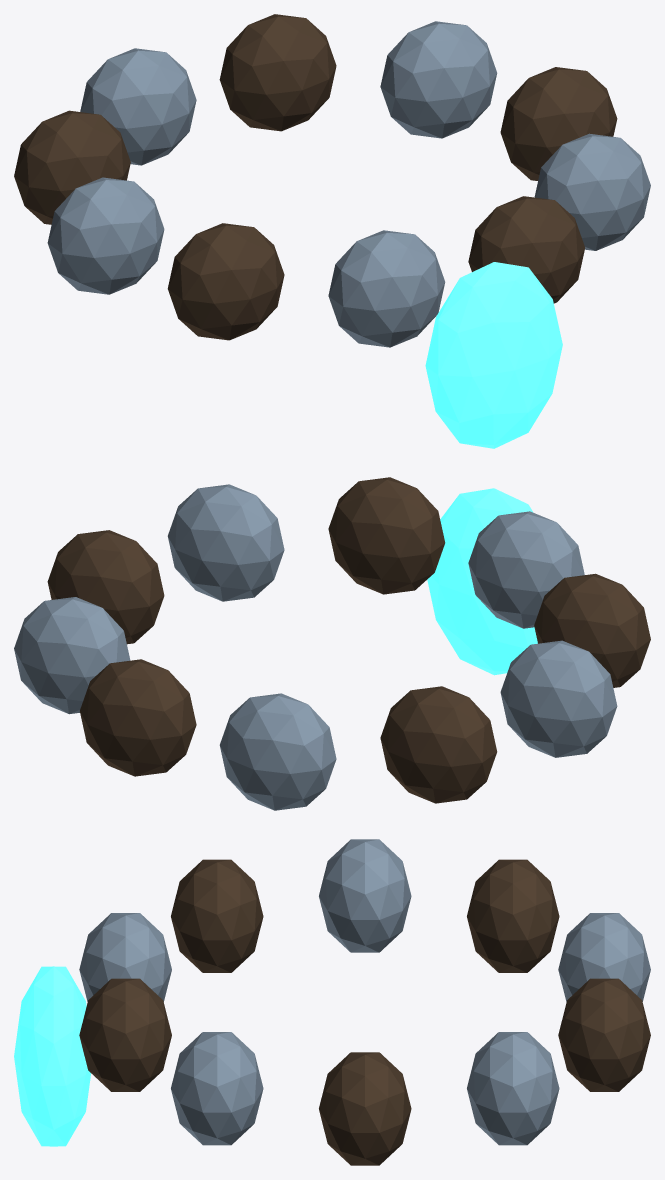
Rendered from bracelet_v7.glb.
The picture shows the model from 3 angles, top to bottom: view 1: azimuth 30°, elevation 25°; view 2: azimuth 150°, elevation 25°; view 3: azimuth 270°, elevation 25°; orthographic projection. The views are drawn at different scales.
Visible parts, largest first — view 1: BONE_CHARM_EMISSIVE, BONE_BEAD_PRIMARY, BONE_BEAD_SECONDARY.001, BONE_BEAD_PRIMARY.002, BONE_BEAD_PRIMARY.003, BONE_BEAD_SECONDARY.003, BONE_BEAD_PRIMARY.001, BONE_BEAD_PRIMARY.004, BONE_BEAD_SECONDARY.002, BONE_BEAD_SECONDARY, BONE_BEAD_SECONDARY.004; view 2: BONE_BEAD_PRIMARY.001, BONE_BEAD_PRIMARY.002, BONE_BEAD_SECONDARY.004, BONE_BEAD_SECONDARY.002, BONE_BEAD_PRIMARY.004, BONE_BEAD_SECONDARY.001, BONE_CHARM_EMISSIVE, BONE_BEAD_PRIMARY.003, BONE_BEAD_PRIMARY, BONE_BEAD_SECONDARY.003, BONE_BEAD_SECONDARY; view 3: BONE_CHARM_EMISSIVE, BONE_BEAD_PRIMARY, BONE_BEAD_SECONDARY.002, BONE_BEAD_SECONDARY.001, BONE_BEAD_SECONDARY.003, BONE_BEAD_PRIMARY.004, BONE_BEAD_SECONDARY.004, BONE_BEAD_SECONDARY, BONE_BEAD_PRIMARY.002, BONE_BEAD_PRIMARY.001, BONE_BEAD_PRIMARY.003.
Boxes of the visible parts, left/top/right/bottom form: BONE_CHARM_EMISSIVE: left=425, top=262, right=562, bottom=448; BONE_BEAD_PRIMARY: left=380, top=21, right=497, bottom=138; BONE_BEAD_SECONDARY.001: left=219, top=14, right=336, bottom=131; BONE_BEAD_PRIMARY.002: left=47, top=177, right=164, bottom=294; BONE_BEAD_PRIMARY.003: left=328, top=230, right=445, bottom=347; BONE_BEAD_SECONDARY.003: left=167, top=223, right=284, bottom=340; BONE_BEAD_PRIMARY.001: left=80, top=48, right=196, bottom=165; BONE_BEAD_PRIMARY.004: left=534, top=133, right=650, bottom=250; BONE_BEAD_SECONDARY.002: left=14, top=110, right=130, bottom=224; BONE_BEAD_SECONDARY: left=500, top=67, right=617, bottom=180; BONE_BEAD_SECONDARY.004: left=468, top=196, right=584, bottom=303; BONE_BEAD_PRIMARY.001: left=219, top=693, right=336, bottom=810; BONE_BEAD_PRIMARY.002: left=500, top=640, right=617, bottom=757; BONE_BEAD_SECONDARY.004: left=328, top=477, right=445, bottom=594; BONE_BEAD_SECONDARY.002: left=380, top=686, right=497, bottom=803; BONE_BEAD_PRIMARY.004: left=167, top=484, right=284, bottom=601; BONE_BEAD_SECONDARY.001: left=80, top=659, right=196, bottom=776; BONE_CHARM_EMISSIVE: left=427, top=488, right=537, bottom=675; BONE_BEAD_PRIMARY.003: left=468, top=511, right=584, bottom=628; BONE_BEAD_PRIMARY: left=14, top=597, right=130, bottom=714; BONE_BEAD_SECONDARY.003: left=534, top=573, right=650, bottom=687; BONE_BEAD_SECONDARY: left=47, top=530, right=164, bottom=644; BONE_CHARM_EMISSIVE: left=14, top=966, right=90, bottom=1146; BONE_BEAD_PRIMARY: left=467, top=1032, right=559, bottom=1145; BONE_BEAD_SECONDARY.002: left=467, top=859, right=559, bottom=972; BONE_BEAD_SECONDARY.001: left=558, top=978, right=650, bottom=1091; BONE_BEAD_SECONDARY.003: left=171, top=859, right=263, bottom=972; BONE_BEAD_PRIMARY.004: left=171, top=1032, right=263, bottom=1145; BONE_BEAD_SECONDARY.004: left=79, top=978, right=171, bottom=1091; BONE_BEAD_SECONDARY: left=319, top=1052, right=411, bottom=1165; BONE_BEAD_PRIMARY.002: left=319, top=839, right=411, bottom=952; BONE_BEAD_PRIMARY.001: left=558, top=913, right=650, bottom=1001; BONE_BEAD_PRIMARY.003: left=79, top=913, right=171, bottom=1001.
Size of the model in its own units: 1.86 by 0.66 by 1.92.
